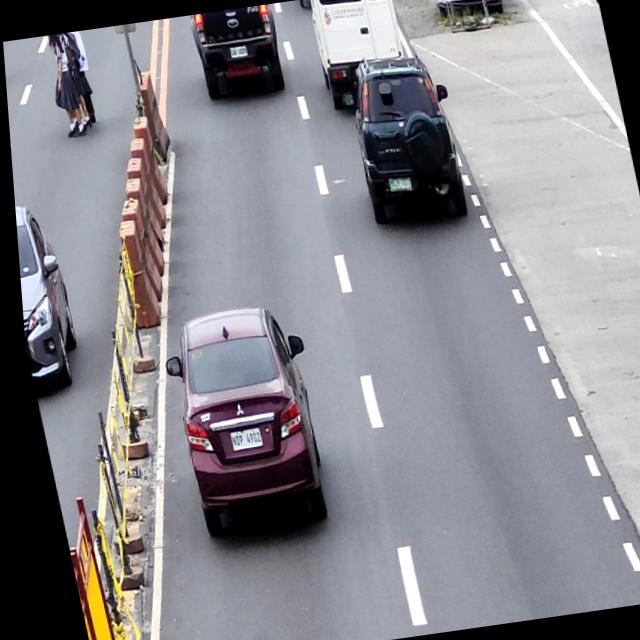Car: (149, 300, 332, 538), (334, 44, 472, 234), (305, 0, 414, 112), (187, 5, 288, 101)
License-Plate: (223, 428, 257, 450), (386, 177, 410, 195), (229, 45, 248, 58)
